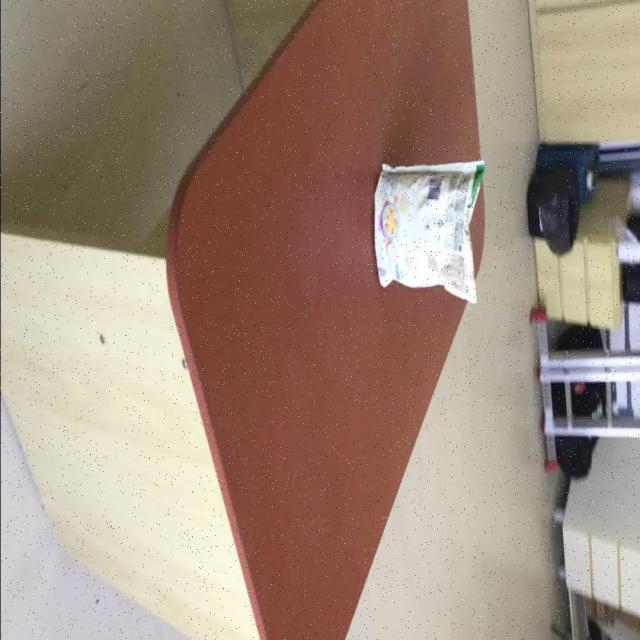CornFlakes: (374, 160, 485, 306)
